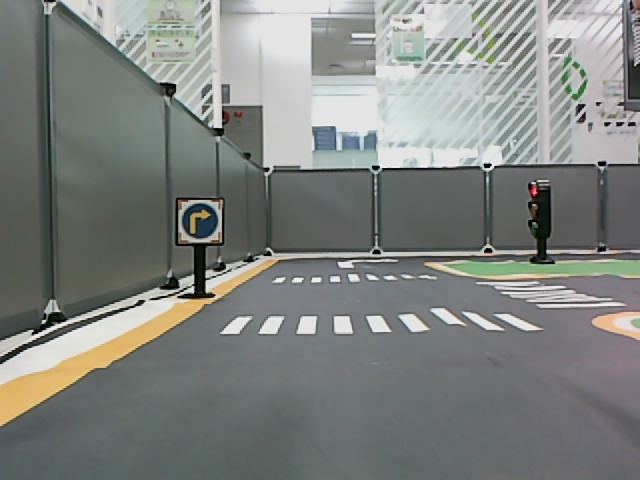crosswalk: (219, 305, 542, 337), (270, 272, 442, 284)
right: (182, 203, 218, 239)
